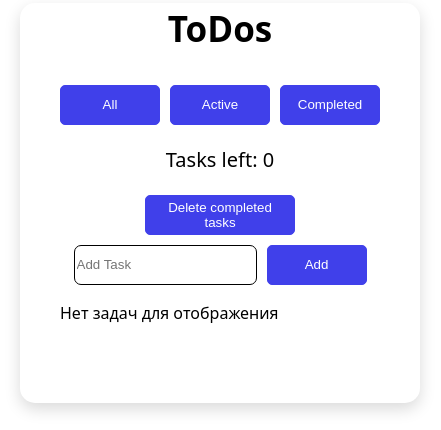
Test: App › фильтрует по активным
In the field with placeholder "Add Task": {"x": 165, "y": 265} top-left (74, 245), bottom-right (256, 285), type "Task 1"
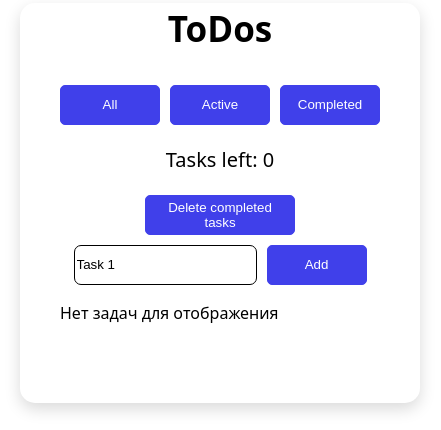
Click the button "Add": {"x": 316, "y": 265} top-left (266, 245), bottom-right (366, 285)
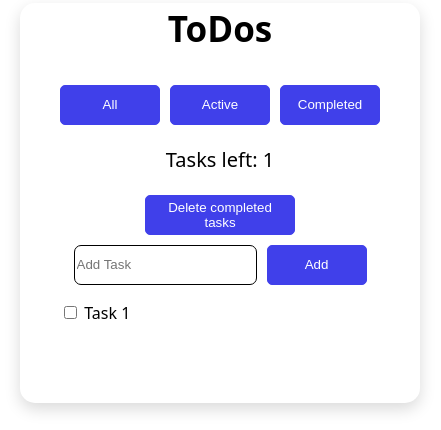
In the field with placeholder "Add Task": {"x": 165, "y": 265} top-left (74, 245), bottom-right (256, 285), type "Task 2"
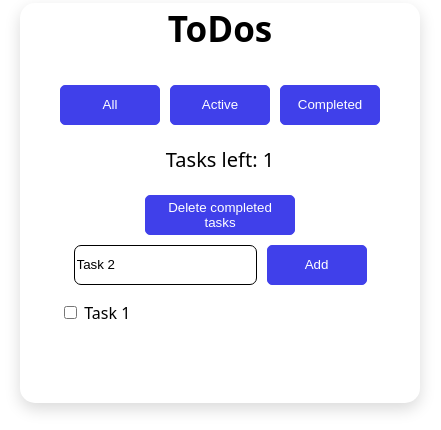
Click the button "Add": {"x": 316, "y": 265} top-left (266, 245), bottom-right (366, 285)
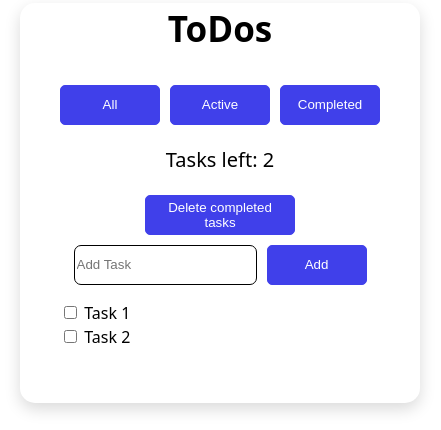
Click the checkbox labelled "Task 1": {"x": 70, "y": 312} top-left (64, 306), bottom-right (77, 319)
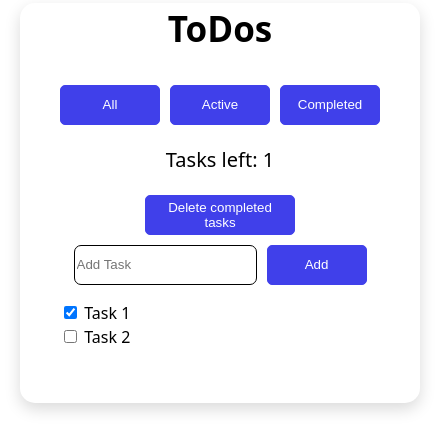
Click the button "Active": {"x": 220, "y": 105} top-left (170, 85), bottom-right (270, 125)
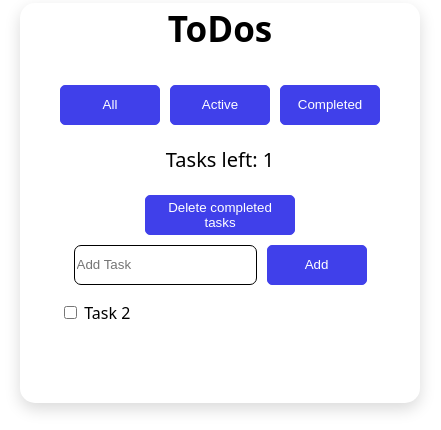
Result: the text "Task 2" is shown at top-left (60, 302), bottom-right (130, 324)
Result: the text "Task 1" is gone
